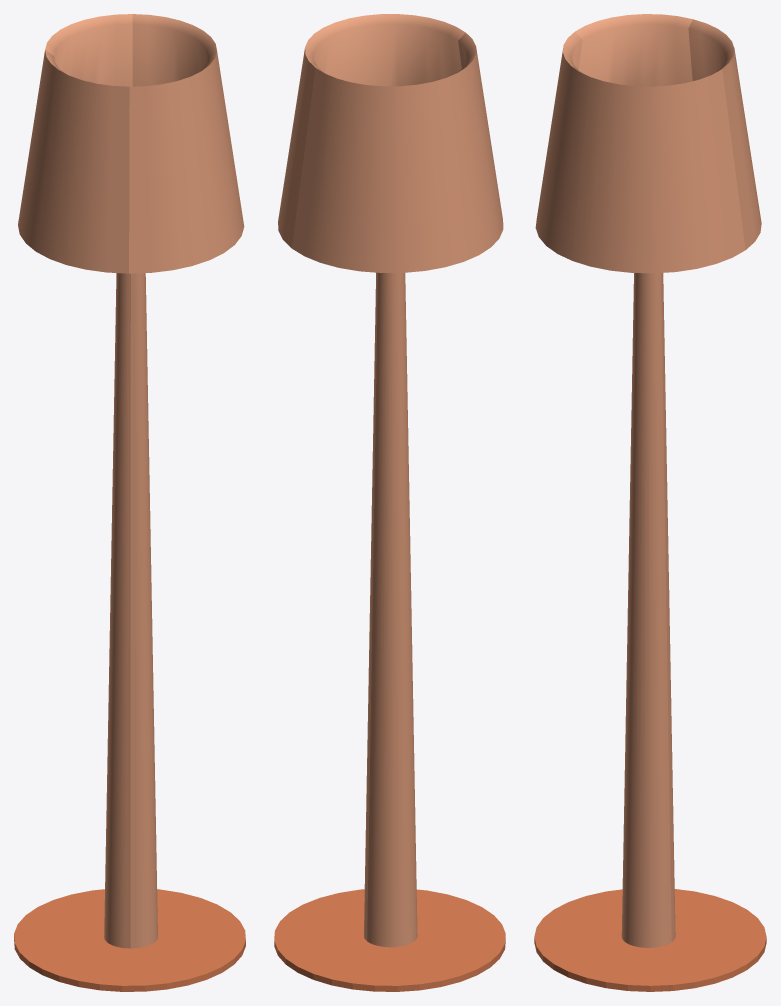
The model's file is Lamp.glb.
3 renders of one model, left to right at view 1: azimuth 30°, elevation 25°; view 2: azimuth 150°, elevation 25°; view 3: azimuth 270°, elevation 25°, orthographic.
Parts seen in each view (by area): view 1: Cylinder.028; view 2: Cylinder.028; view 3: Cylinder.028.
Boxes of the visible parts, <box> form: Cylinder.028: <box>14,14,245,991</box>; Cylinder.028: <box>274,14,505,991</box>; Cylinder.028: <box>534,14,766,991</box>.
Size of the model in its own units: 0.4023 by 1.71 by 0.4023.
